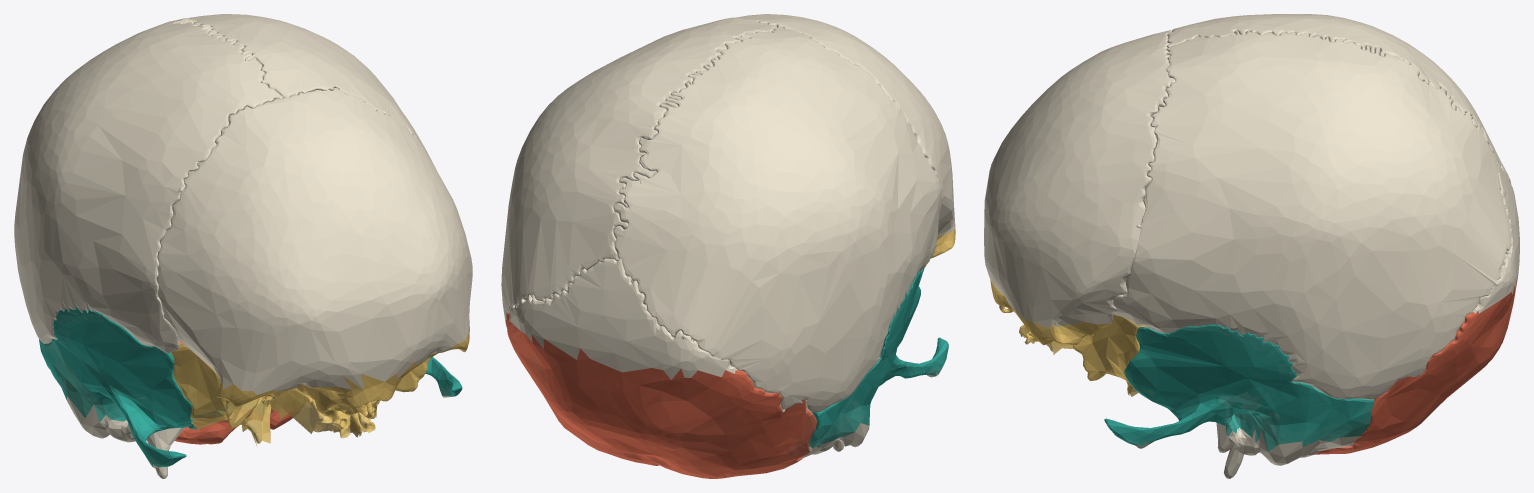
Rendered from bodyparts3d-brain-fossae.glb.
3 views of the same model, side by side, from view 1: azimuth 30°, elevation 25°; view 2: azimuth 150°, elevation 25°; view 3: azimuth 270°, elevation 25° (orthographic).
Visible parts, largest first — view 1: fossa_vault, fossa_mid, fossa_ant, fossa_post; view 2: fossa_vault, fossa_post, fossa_mid; view 3: fossa_vault, fossa_mid, fossa_post, fossa_ant.
Boxes of the visible parts, box(x1,y1,x2,y2) form: fossa_vault: box(14, 14, 472, 478); fossa_mid: box(39, 306, 462, 466); fossa_ant: box(171, 328, 469, 445); fossa_post: box(175, 341, 292, 444); fossa_vault: box(501, 14, 954, 458); fossa_post: box(506, 313, 816, 478); fossa_mid: box(809, 266, 948, 447); fossa_vault: box(984, 14, 1519, 478); fossa_mid: box(1104, 324, 1374, 451); fossa_post: box(1314, 276, 1517, 454); fossa_ant: box(990, 279, 1146, 396).
Bounding box in the file's own units: 0.151 × 0.1608 × 0.1954.
